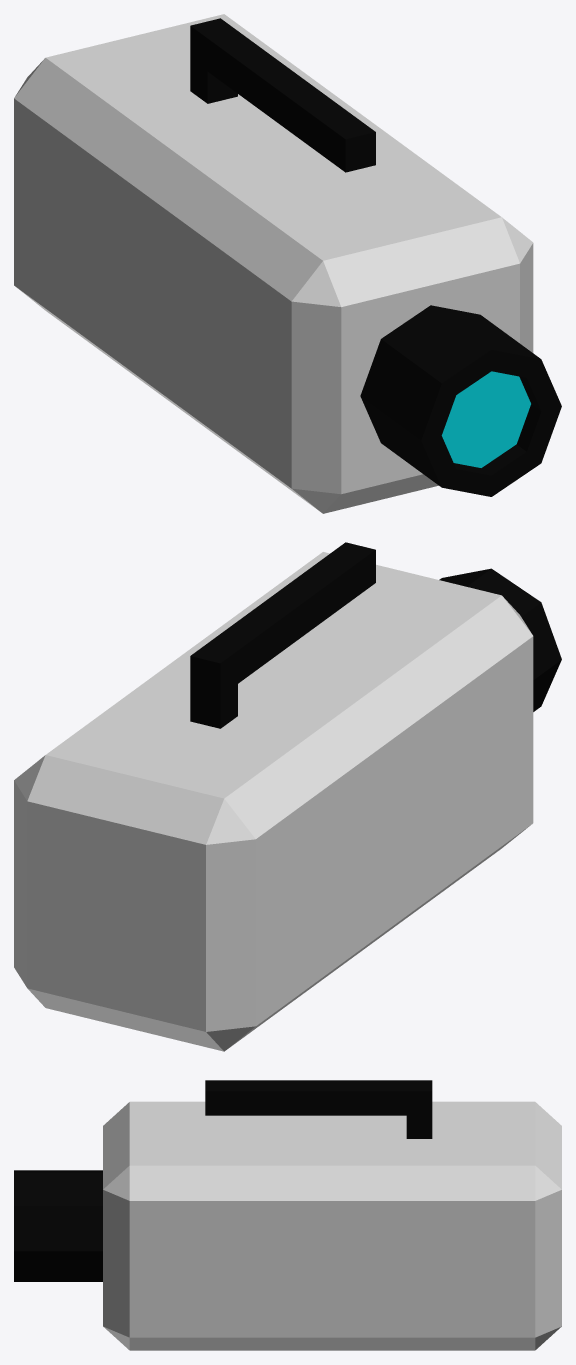
The model's file is ACTION_CAM.fbx.
3 views of the same model, one above another, from view 1: azimuth 30°, elevation 25°; view 2: azimuth 150°, elevation 25°; view 3: azimuth 270°, elevation 25° (orthographic). The views are drawn at different scales.
Parts seen in each view (by area): view 1: Cube; view 2: Cube; view 3: Cube.
Part boxes in pixels (left/top/right/bottom): Cube: left=14, top=14, right=561, bottom=513; Cube: left=14, top=542, right=561, bottom=1051; Cube: left=14, top=1080, right=561, bottom=1350.
Size of the model in its own units: 255 by 320 by 683.
